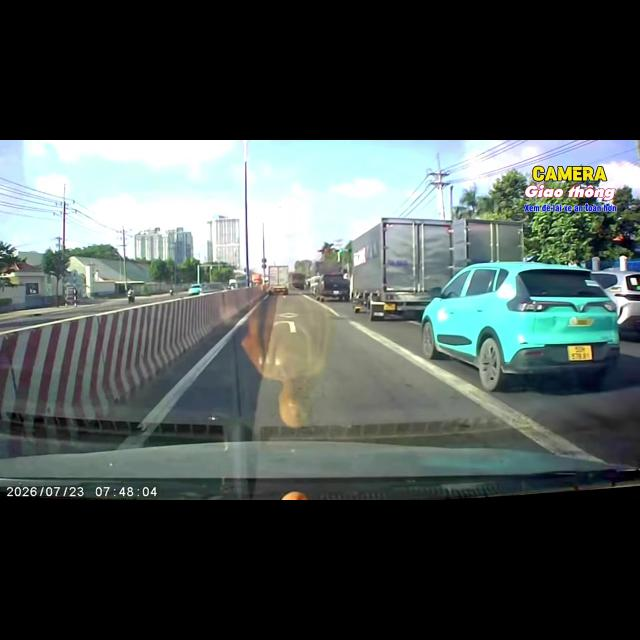car: (421, 262, 619, 391), (592, 268, 639, 337), (316, 278, 348, 300), (188, 284, 202, 296)
motorcycle: (128, 291, 134, 303)
truck: (350, 218, 523, 320), (267, 265, 289, 295), (312, 261, 342, 275), (290, 272, 306, 289)
